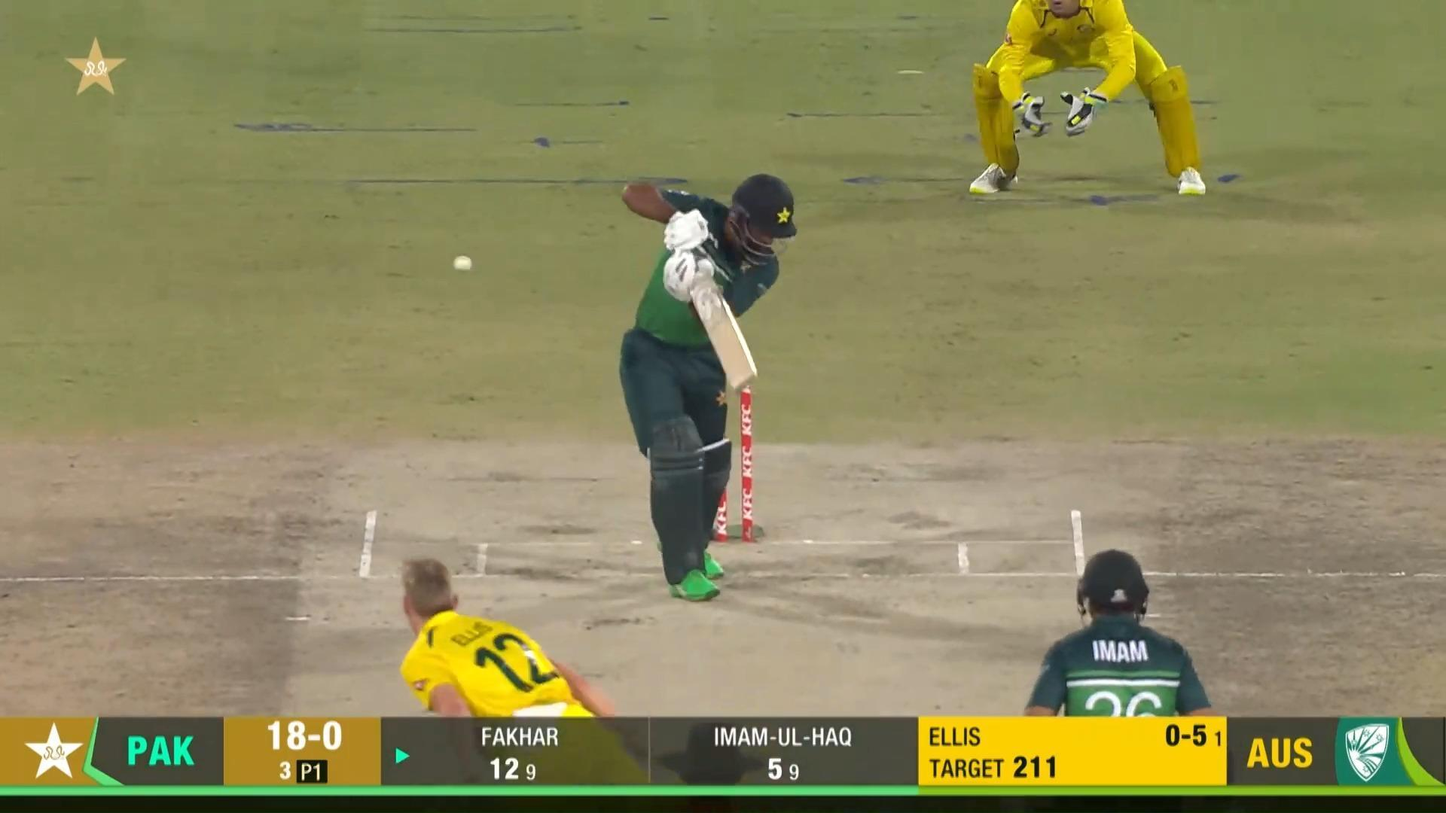BM 1: (616, 172, 801, 604)
BO: (399, 555, 614, 715)
